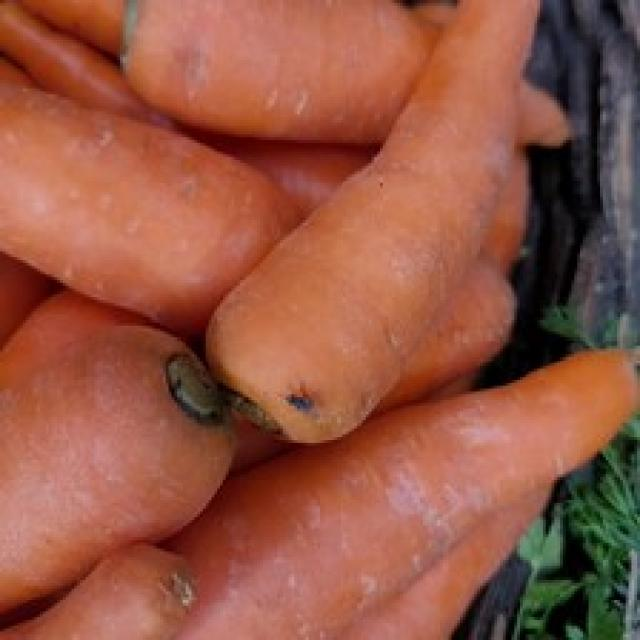Fresh_Carrot: (205, 0, 553, 449), (0, 82, 292, 330)
